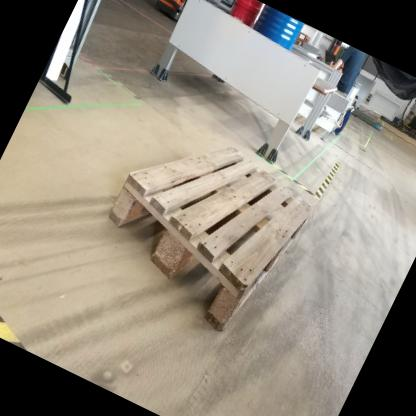BoxFace: (103, 139, 316, 344)
